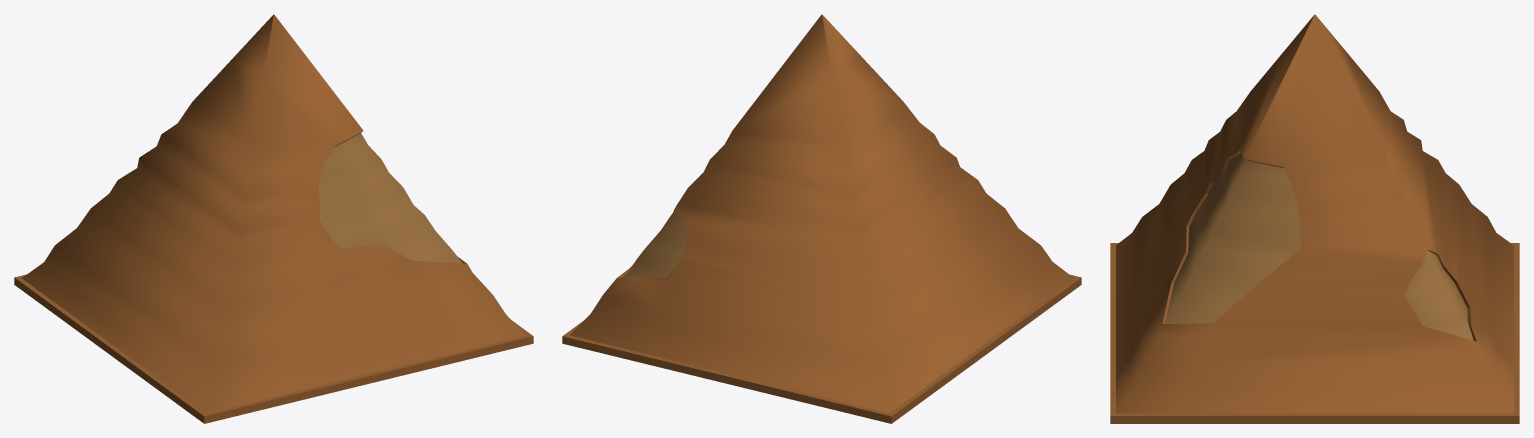
File: big_pyramid.fbx
3 renders of one model, left to right at view 1: azimuth 30°, elevation 25°; view 2: azimuth 150°, elevation 25°; view 3: azimuth 270°, elevation 25°, orthographic. The views are drawn at different scales.
Visible parts, largest first — view 1: big_pyramid; view 2: big_pyramid; view 3: big_pyramid.
Boxes of the visible parts, box(x1,y1,x2,y2) form: big_pyramid: box(14, 14, 533, 423); big_pyramid: box(562, 14, 1081, 423); big_pyramid: box(1110, 14, 1519, 423).
Size of the model in its own units: 40.46 by 35.26 by 40.46.
